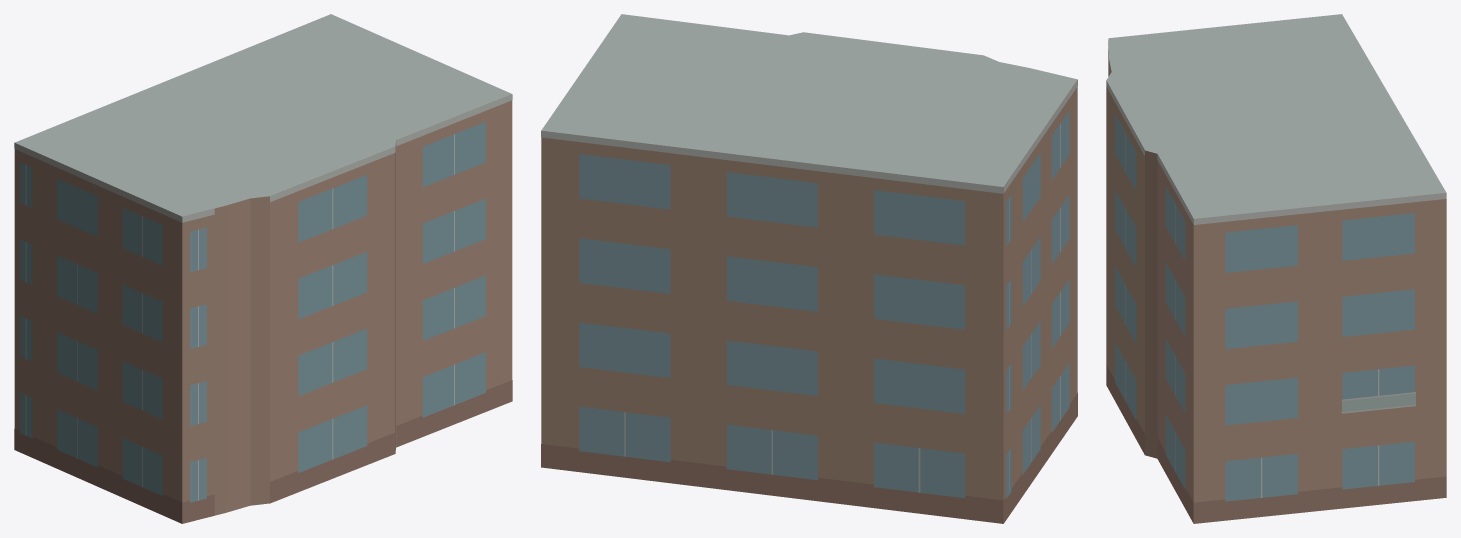
File: survey-upis-32619842.glb
3 views of the same model, side by side, from view 1: azimuth 30°, elevation 25°; view 2: azimuth 150°, elevation 25°; view 3: azimuth 270°, elevation 25° (orthographic). The views are drawn at different scales.
Parts seen in each view (by area): view 1: survey-upis-32619842.tmp; view 2: survey-upis-32619842.tmp; view 3: survey-upis-32619842.tmp.
Part boxes in pixels (x1,y1,x2,y2): survey-upis-32619842.tmp: (14, 14, 512, 523); survey-upis-32619842.tmp: (541, 14, 1077, 523); survey-upis-32619842.tmp: (1106, 14, 1446, 523).
Bounding box in the file's own units: 17.6 × 12.2 × 12.35.
